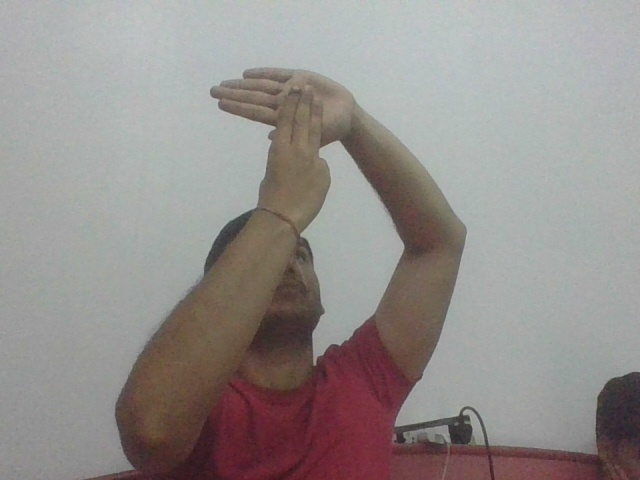M: (204, 61, 352, 158)
